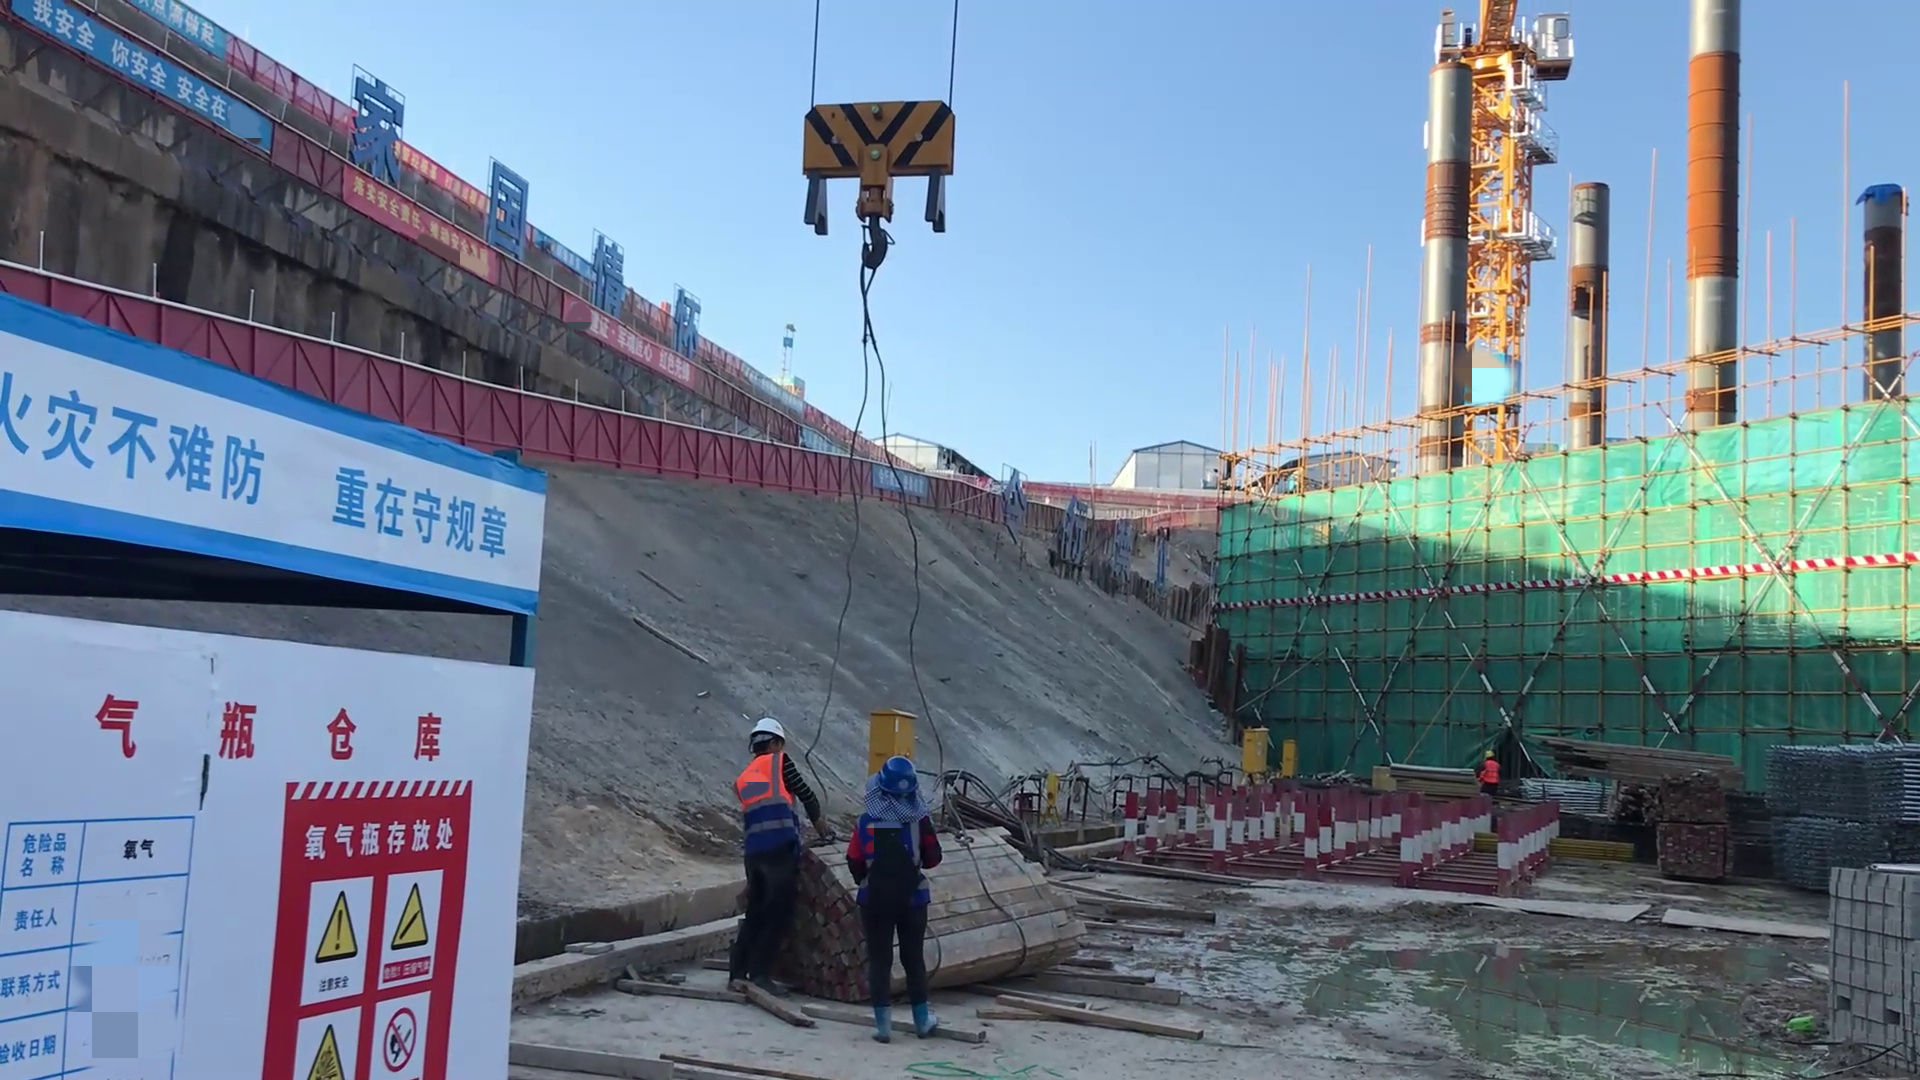brick: (1808, 858, 1920, 1052)
ebox: (867, 701, 911, 774), (1238, 720, 1265, 770), (1275, 738, 1301, 787)
fence: (540, 398, 718, 485), (717, 441, 885, 497)
helmet: (871, 749, 927, 787), (743, 713, 790, 752), (1481, 748, 1503, 755)
hook: (801, 93, 957, 231)
person: (845, 738, 956, 1036), (729, 714, 808, 988), (1473, 748, 1503, 804)
scaffold: (1778, 724, 1914, 842), (1763, 811, 1838, 897)
slogan: (1, 366, 508, 581), (267, 776, 463, 1080), (10, 1, 259, 161), (318, 175, 508, 281)
vest: (728, 761, 789, 847), (1479, 760, 1497, 785)
wood: (1537, 711, 1763, 815), (955, 837, 1074, 983)
